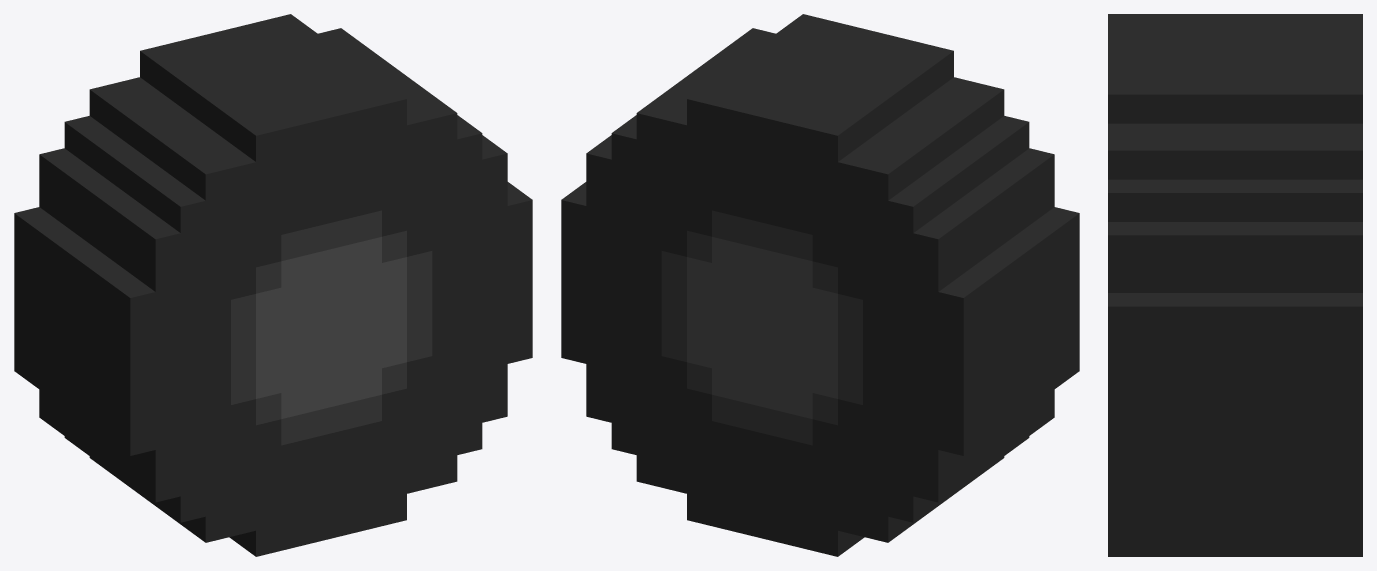
The model's file is tire-4.obj.
The picture shows the model from 3 angles, left to right: view 1: azimuth 30°, elevation 25°; view 2: azimuth 150°, elevation 25°; view 3: azimuth 270°, elevation 25°; orthographic projection. The views are drawn at different scales.
Size of the model in its own units: 1.6 by 1.6 by 0.8.
Materials: 1 (1 with a texture image).
